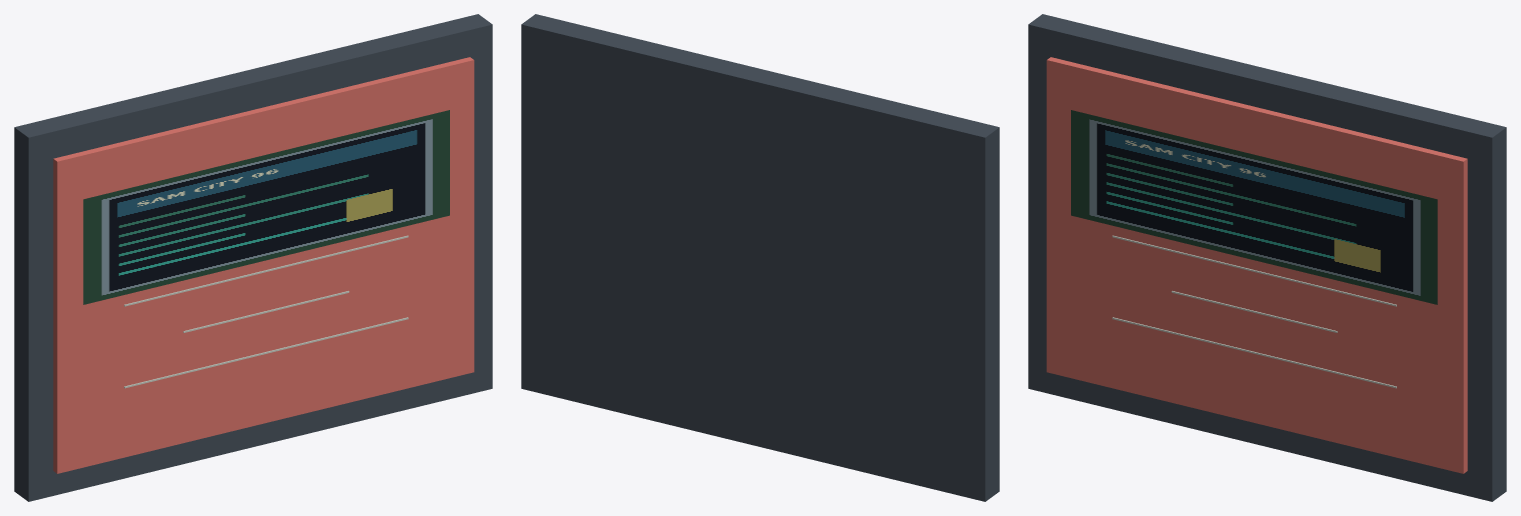
Rendered from sight_screen.glb.
3 views of the same model, side by side, from view 1: azimuth 30°, elevation 25°; view 2: azimuth 150°, elevation 25°; view 3: azimuth 330°, elevation 25° (orthographic).
Bounding box in the file's own units: 3.92 × 2.94 × 0.2969.
Materials: 2 (2 with a texture image).
